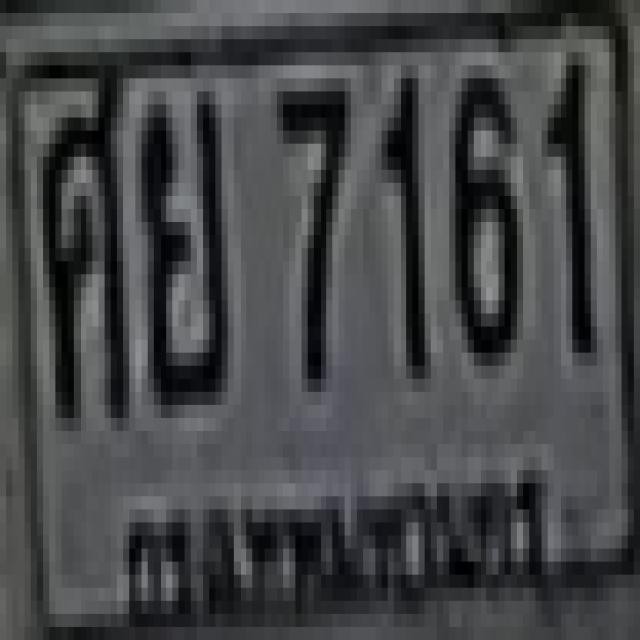1: (376, 65, 418, 366), (542, 46, 584, 346)
6: (449, 65, 517, 353)
7: (270, 78, 344, 379)
A34: (136, 85, 222, 398)
A38: (37, 65, 123, 418)
